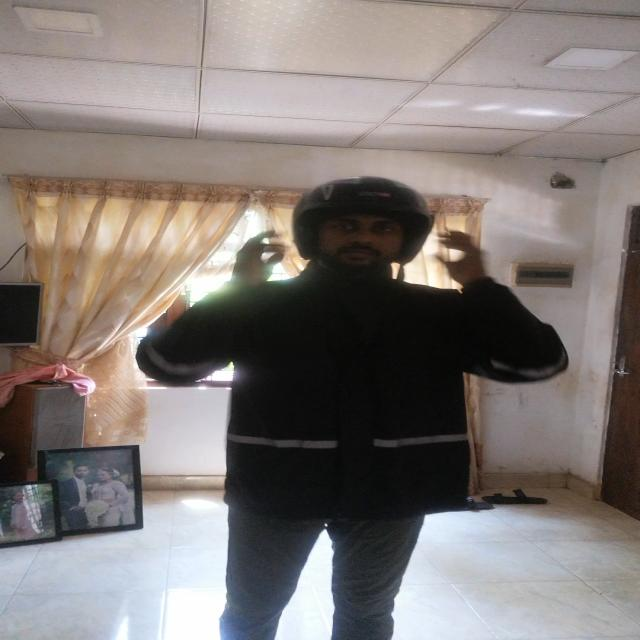Helmet_Wearer: (264, 174, 452, 296)
Jacket_Wearer: (123, 258, 572, 530)
Person: (127, 174, 578, 640)
